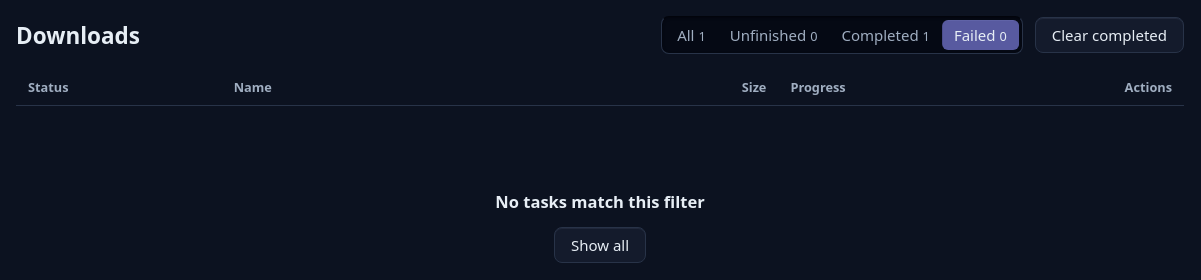
Test: Tasks › offers every task when a filter matches nothing
The width and height of the screenshot is (1201, 280).
Expected: the text "No tasks match this filter" is shown, 495,190 -> 705,215
Click the button "Show all".
click(600, 245)  # box 554,227 -> 646,263
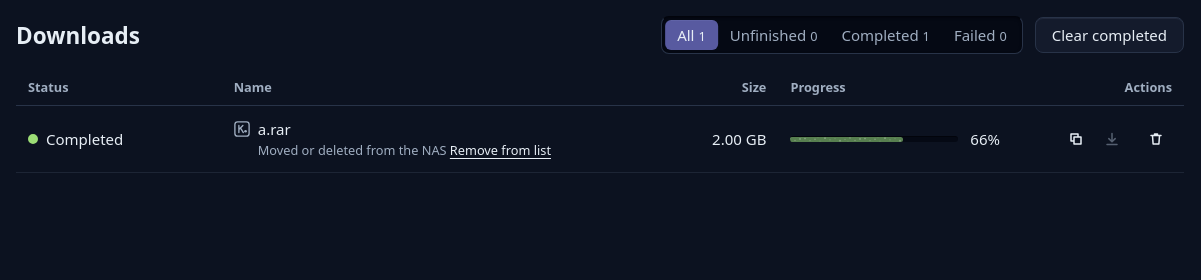
Expected: the text "a.rar" is shown, 258,119 -> 291,139
Expected: the radio button labelled "All 1" is checked, 665,20 -> 718,50
